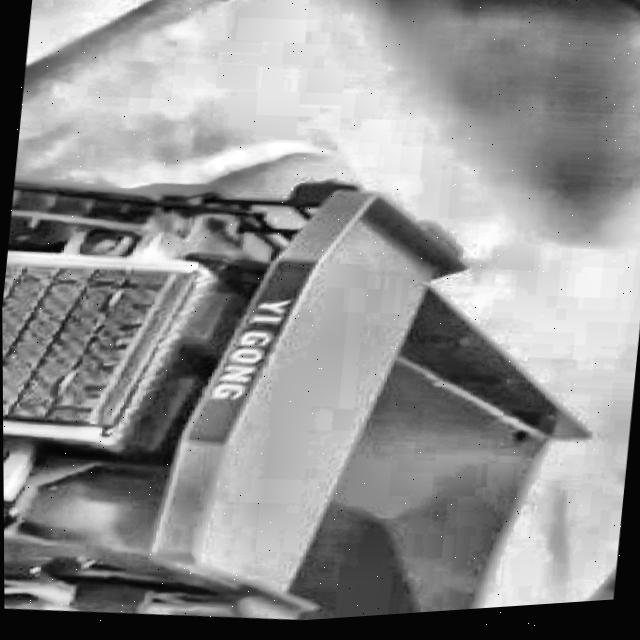dump_truck: (1, 113, 582, 640)
